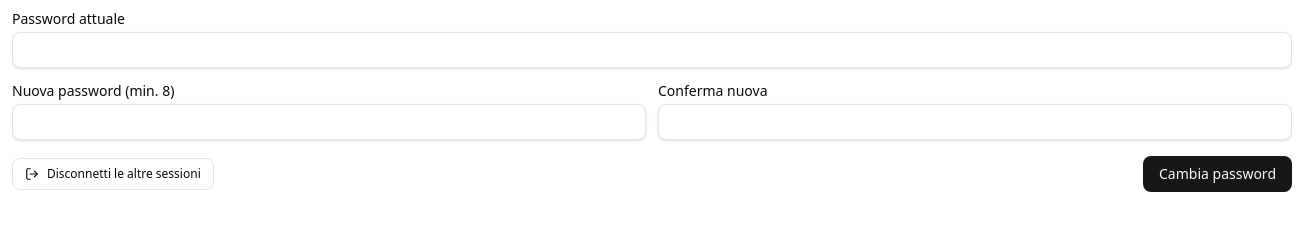
Test case: ChangePasswordForm › cambia la password e svuota i campi
Type "vecchia1234" into the password field labelled "Password attuale".
click(652, 50); type("vecchia1234")  # box [12, 32, 1292, 68]
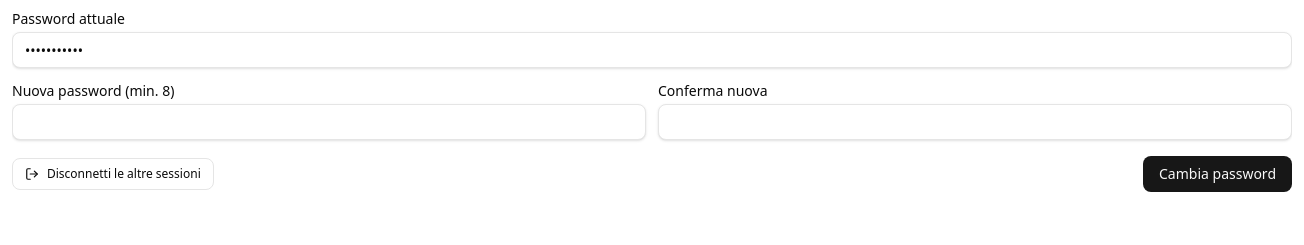
Type "nuova12345" into the password field labelled "Nuova password (min. 8)".
click(329, 122); type("nuova12345")  # box [12, 104, 646, 140]
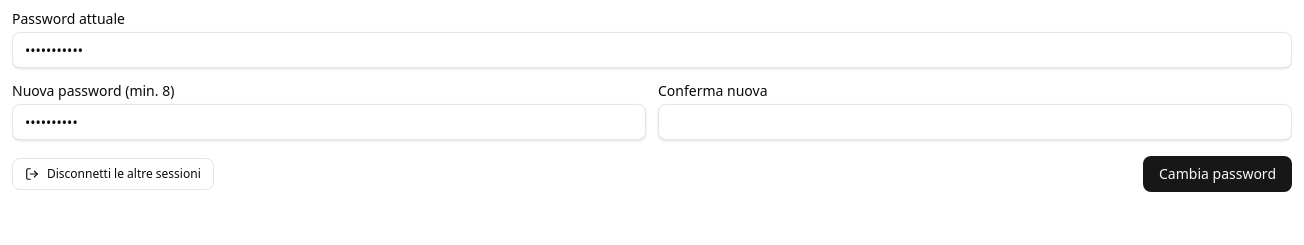
Type "nuova12345" into the password field labelled "Conferma nuova".
click(975, 122); type("nuova12345")  # box [658, 104, 1292, 140]
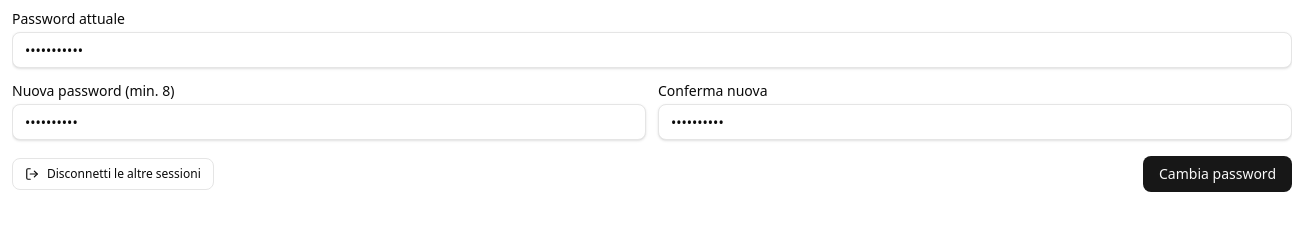
Click the button "Cambia password".
click(1218, 174)  # box [1143, 156, 1292, 192]
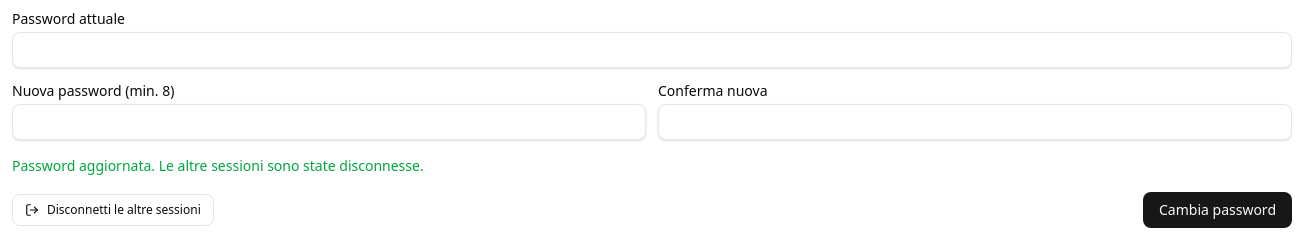
Check: the text "Password aggiornata" is shown, box [12, 156, 424, 175]
Check: the password field labelled "Password attuale" is empty, box [12, 32, 1292, 68]
